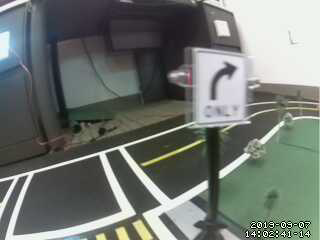Right_only_sign: (191, 47, 247, 122)
